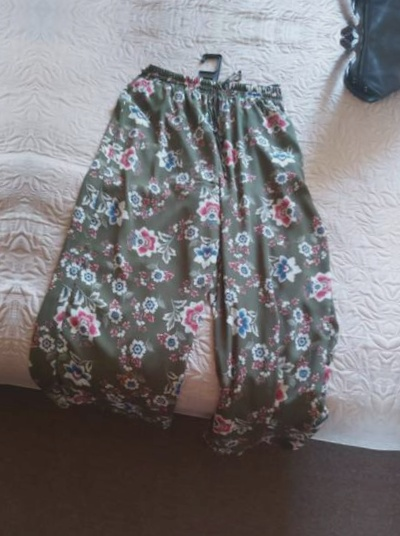Pants: (33, 50, 365, 480), (0, 16, 7, 446), (77, 0, 400, 1)
